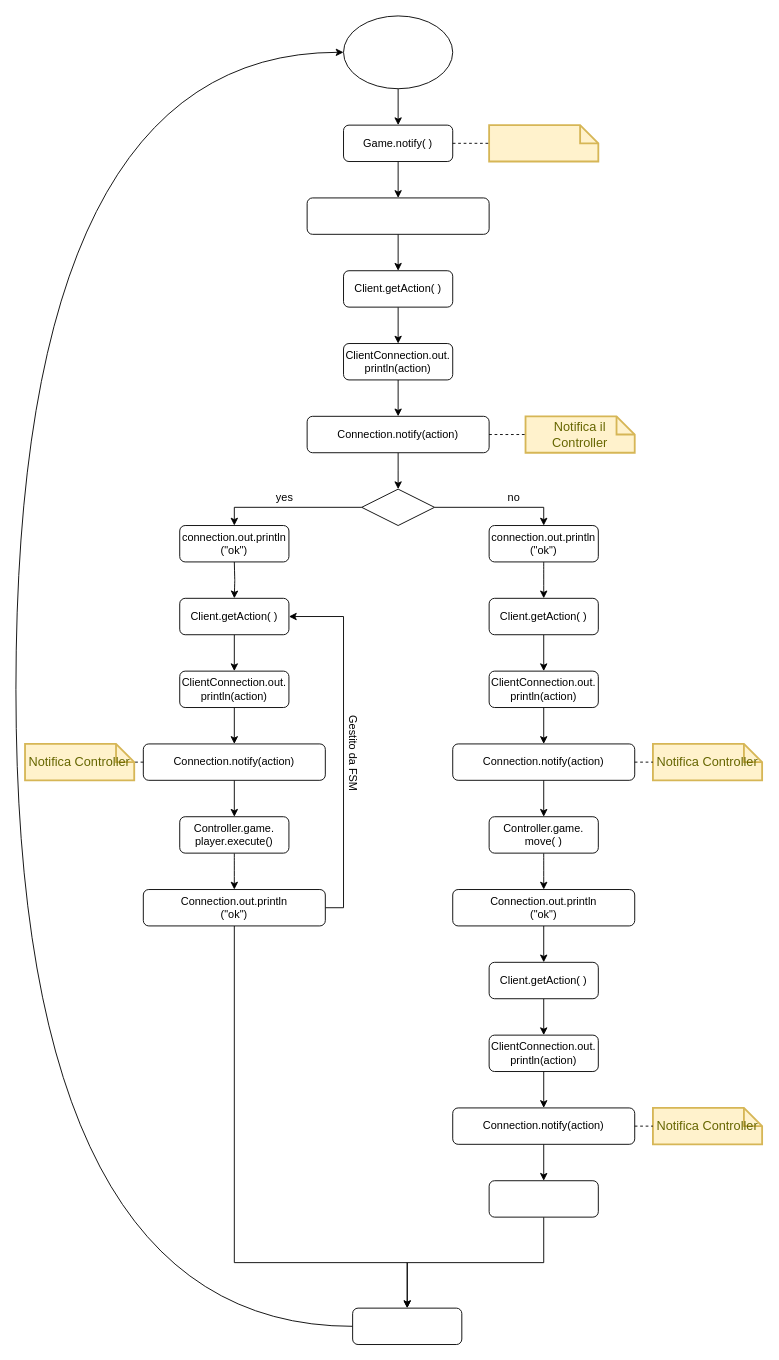
Some shapes in this 779 by 1360 pixel diagram are drawn without their labels. The centre of each missing label's shape, as x and y in pixels:
Connection.out.println ("start turn"): point 397,215
Controller.game. build(): point 543,1198
Controller.game. endTurn(): point 407,1326
Notifica la connection: point 543,143
Start of the turn: point 398,52
usepower: point 398,507
